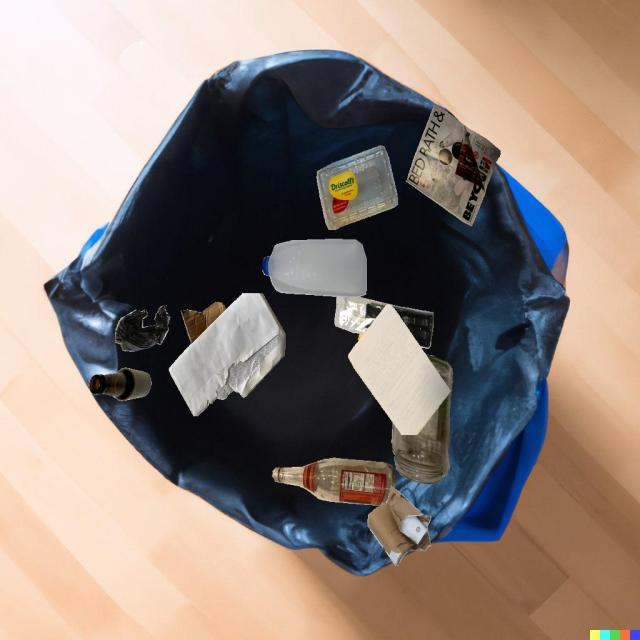biowaste: (358, 334, 363, 340)
cardboard: (367, 486, 431, 566), (181, 302, 226, 344)
glass: (392, 354, 453, 484), (272, 458, 395, 506), (89, 368, 152, 401)
paper: (169, 293, 285, 416), (348, 304, 451, 435), (406, 105, 500, 226)
plastic: (316, 145, 398, 230), (262, 239, 366, 297), (334, 297, 433, 348), (115, 305, 170, 352)
